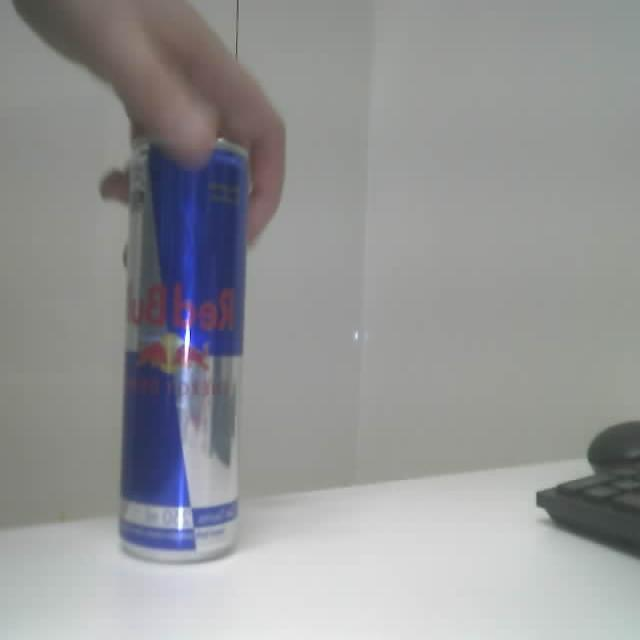redbull can: (119, 140, 248, 561)
